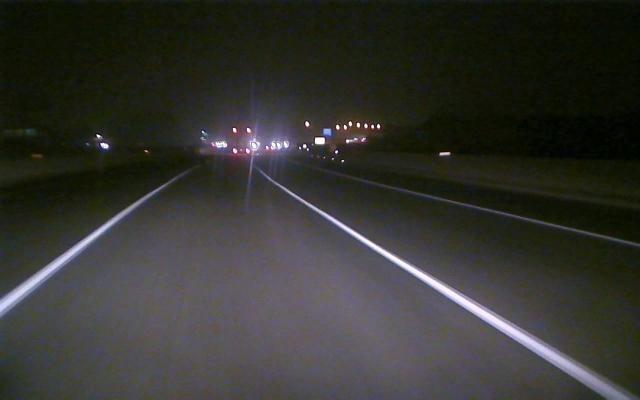lane: (276, 184, 637, 399), (3, 178, 178, 314), (375, 181, 640, 249)
